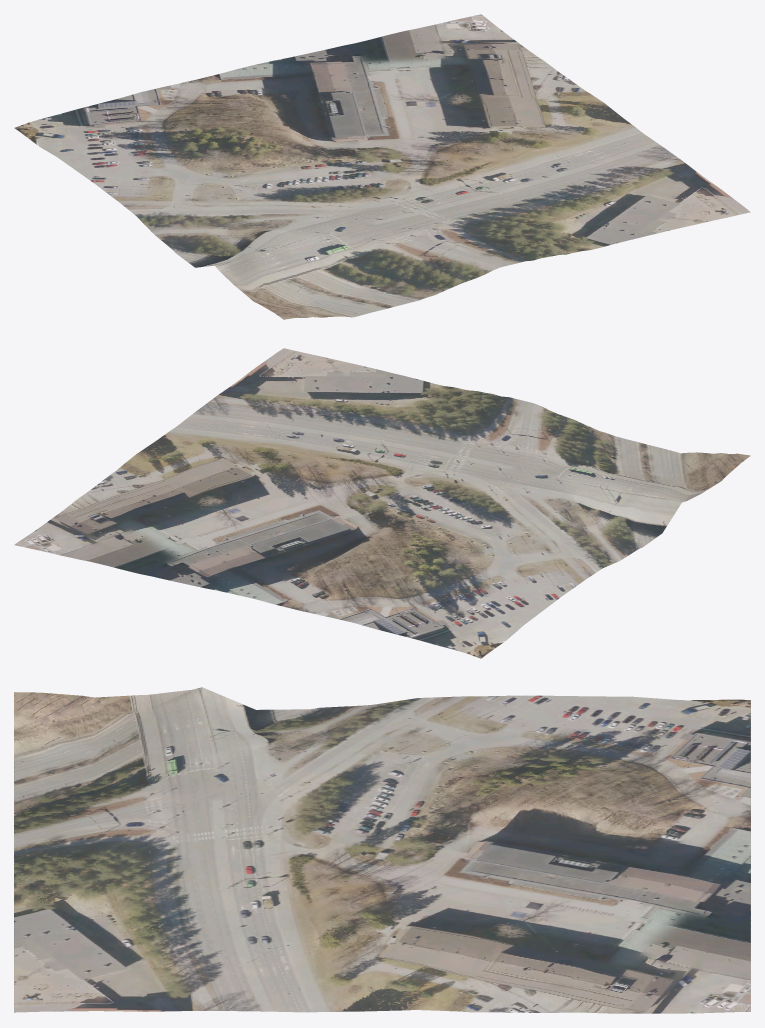
Rendered from CM_Terrain_24489639_6821432.fbx.
The picture shows the model from 3 angles, top to bottom: view 1: azimuth 30°, elevation 25°; view 2: azimuth 150°, elevation 25°; view 3: azimuth 270°, elevation 25°; orthographic projection. The views are drawn at different scales.
Visible parts, largest first — view 1: CM_Terrain_24489639_6821432_LOD0; view 2: CM_Terrain_24489639_6821432_LOD0; view 3: CM_Terrain_24489639_6821432_LOD0.
Boxes of the visible parts, left/top/right/bottom form: CM_Terrain_24489639_6821432_LOD0: left=14, top=14, right=750, bottom=319; CM_Terrain_24489639_6821432_LOD0: left=14, top=348, right=750, bottom=658; CM_Terrain_24489639_6821432_LOD0: left=14, top=687, right=750, bottom=1013.
Size of what is drawn, in the model's own units: 205 by 10.09 by 205.
